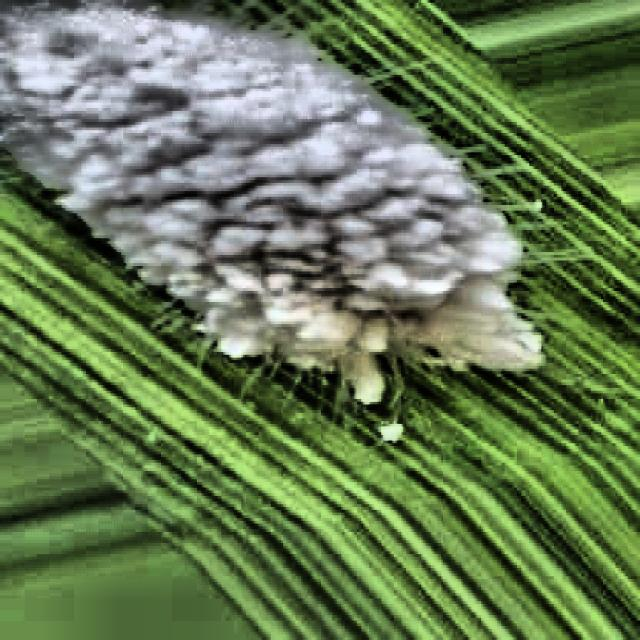Mealy-bug: (9, 4, 569, 552)
